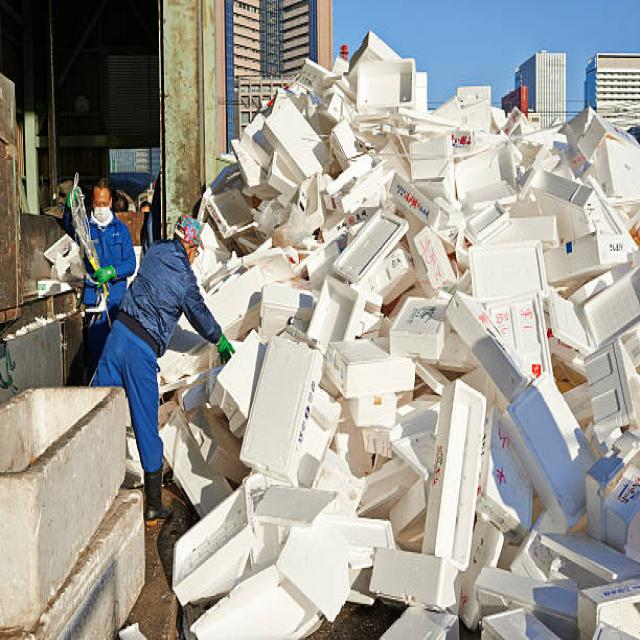cardboard: (199, 111, 640, 606)
